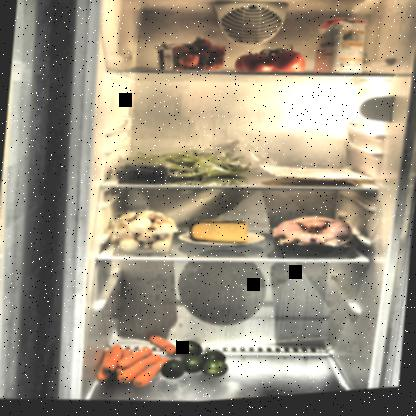blueberries: (116, 160, 169, 189)
carrot: (95, 328, 178, 396)
cheese: (188, 218, 252, 253)
chicken: (268, 212, 362, 269)
green_beans: (122, 133, 259, 196)
lime: (160, 338, 233, 389)
mushrooms: (107, 205, 181, 261)
strawberries: (150, 33, 230, 82)
tomato: (233, 46, 312, 82)
